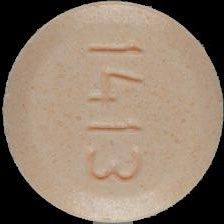0527-1413: (0, 0, 224, 224)
